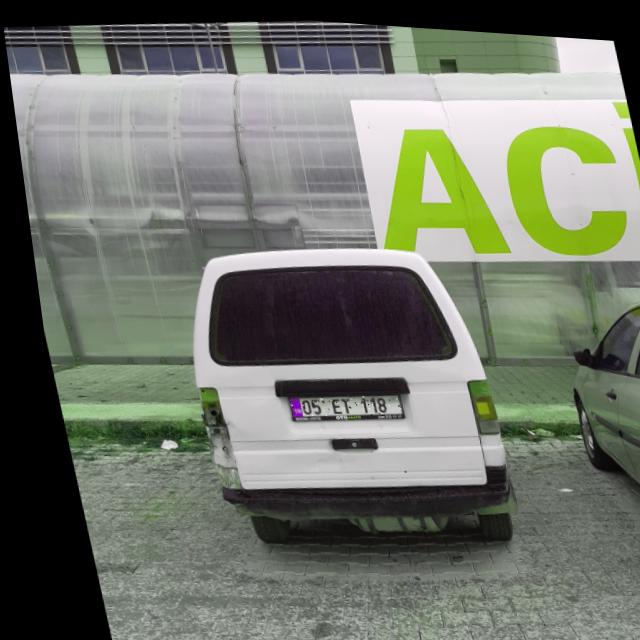license_plate: (278, 384, 392, 419)
